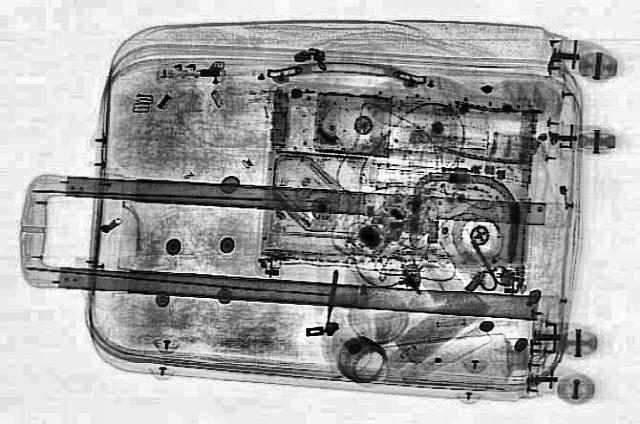Scissors: (451, 228, 519, 292)
